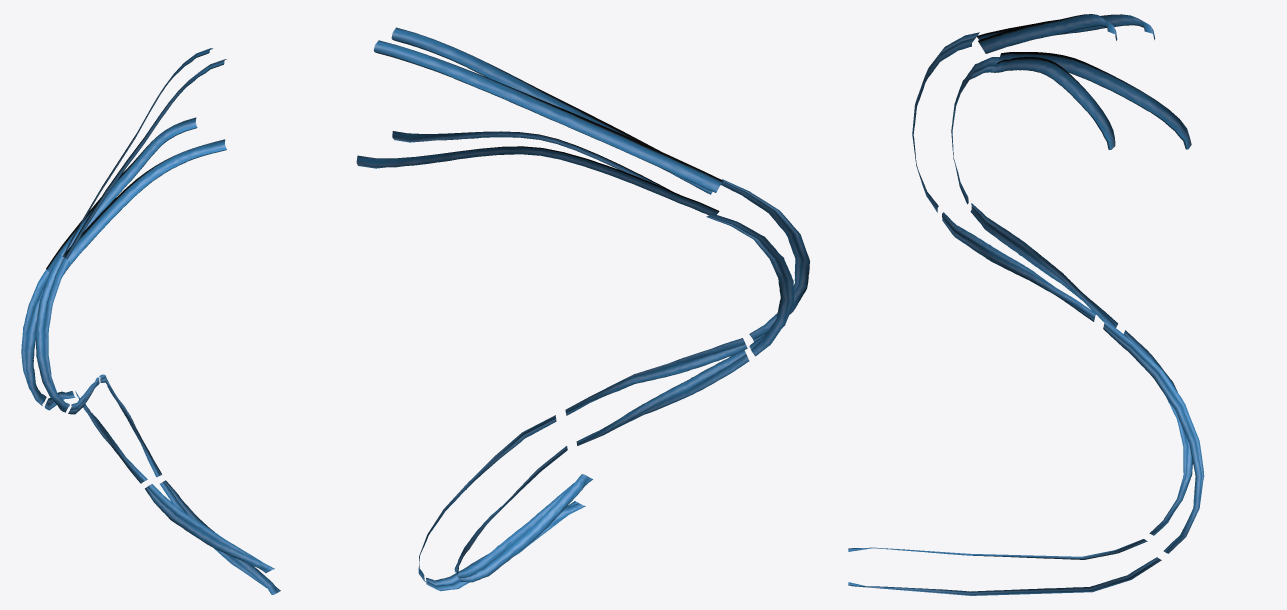
The model's file is Wire_Multiple_03.FBX.
3 renders of one model, left to right at view 1: azimuth 30°, elevation 25°; view 2: azimuth 150°, elevation 25°; view 3: azimuth 270°, elevation 25°, orthographic. The views are drawn at different scales.
Visible parts, largest first — view 1: Wire_Multiple_03; view 2: Wire_Multiple_03; view 3: Wire_Multiple_03.
Boxes of the visible parts, <box> form: Wire_Multiple_03: <box>21,48,280,594</box>; Wire_Multiple_03: <box>356,27,809,591</box>; Wire_Multiple_03: <box>848,14,1204,595</box>.
Bounding box in the file's own units: 6.81 × 10.81 × 7.06.
